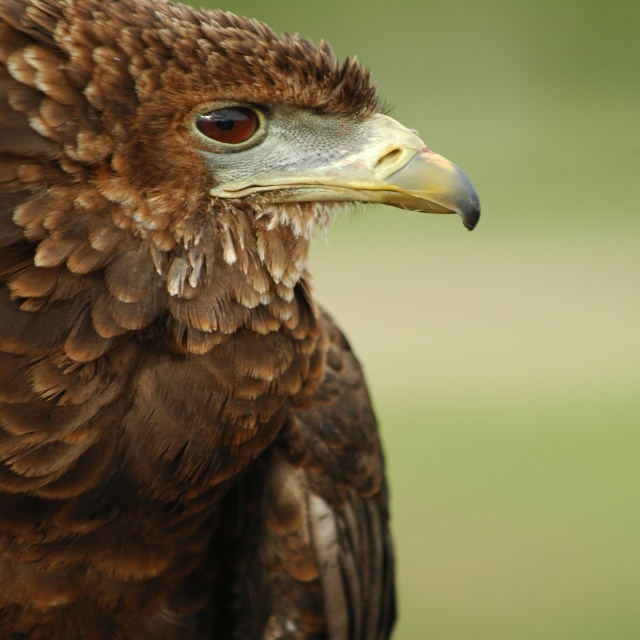Eagle: (0, 0, 480, 640)
